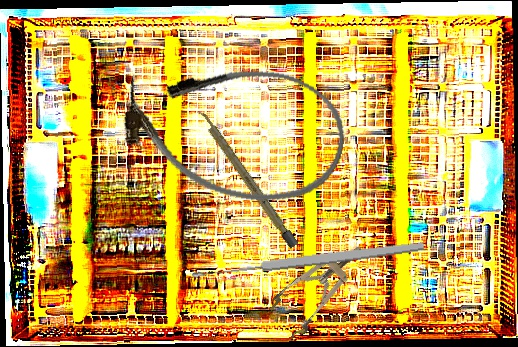Cannula: (113, 45, 355, 216)
Scalpel Handle: (195, 107, 299, 249)
Speculum: (263, 231, 378, 342)
Surgical Spoon: (190, 239, 426, 282)
